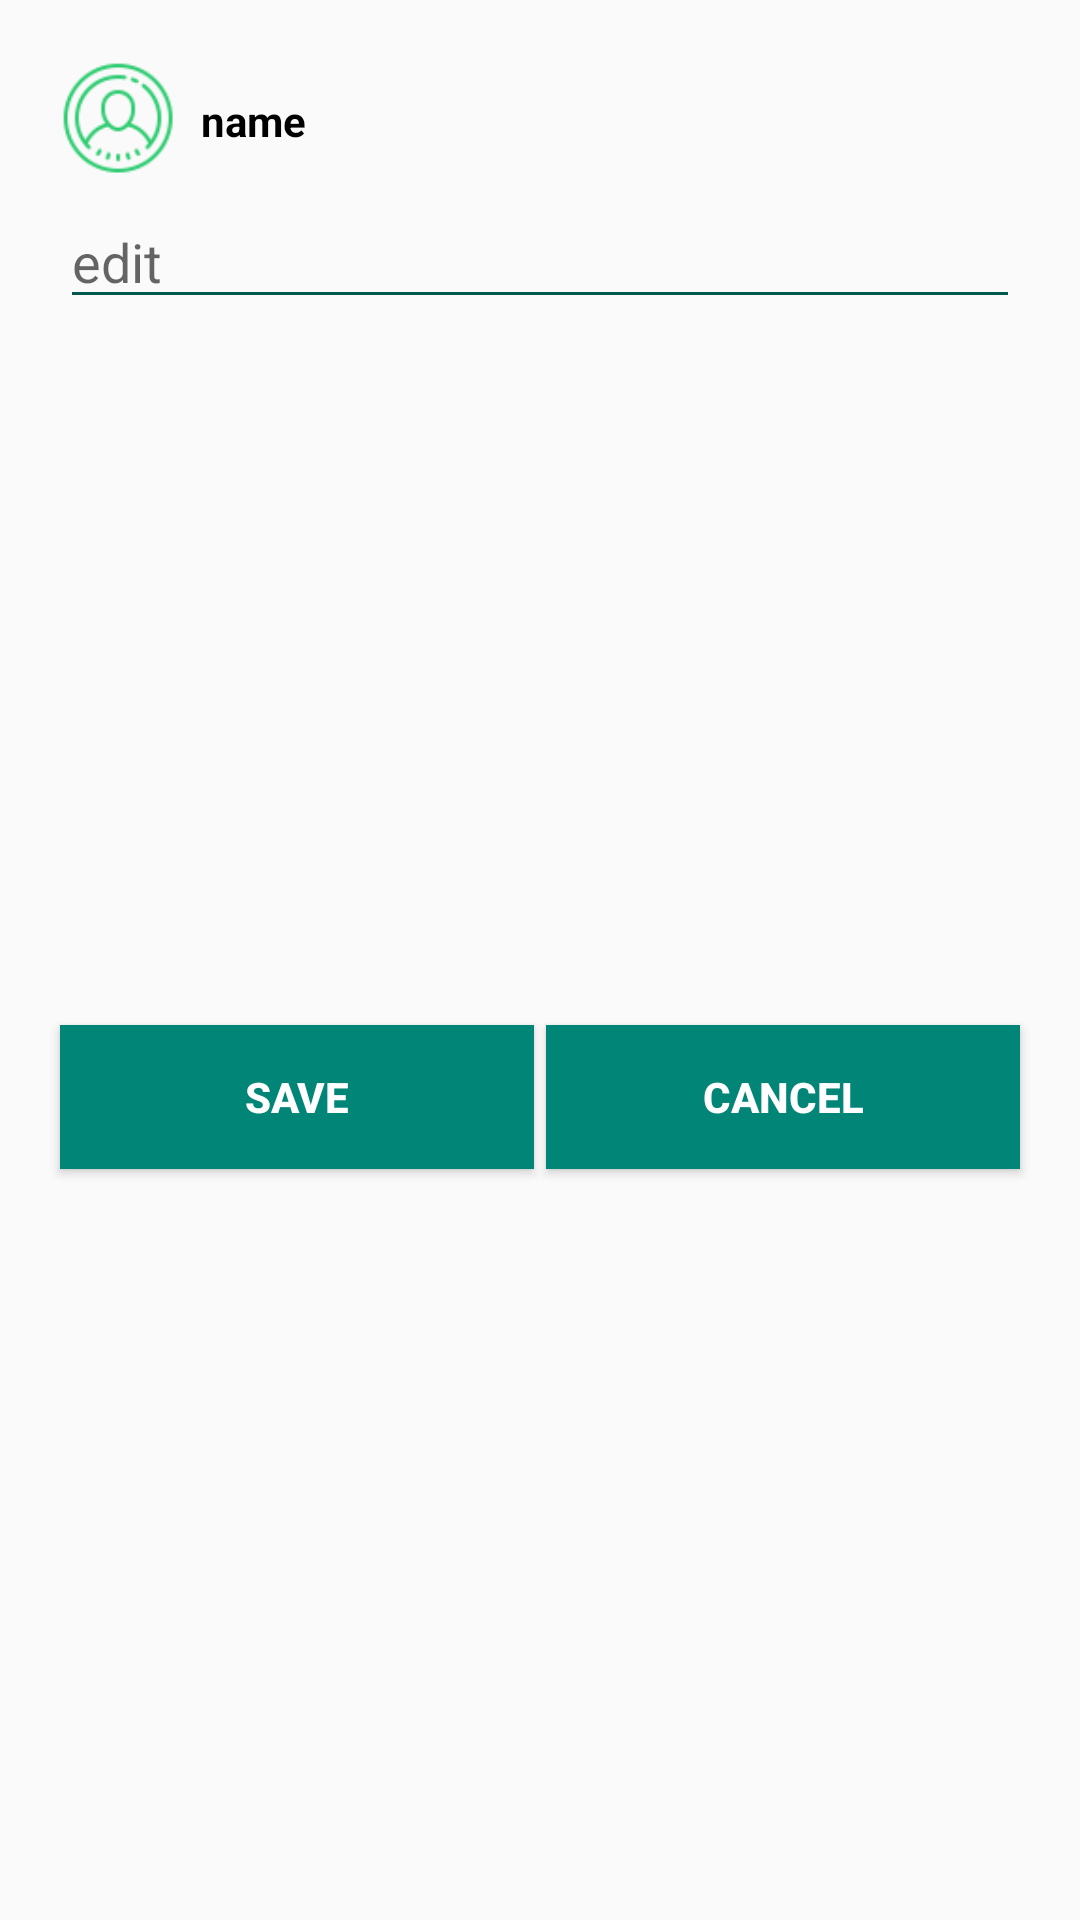

Locate icon controls on the screen. Image size 1080 x 1920, boxes as (x1, y1, x2, y2).
user: (63, 63, 173, 173)
